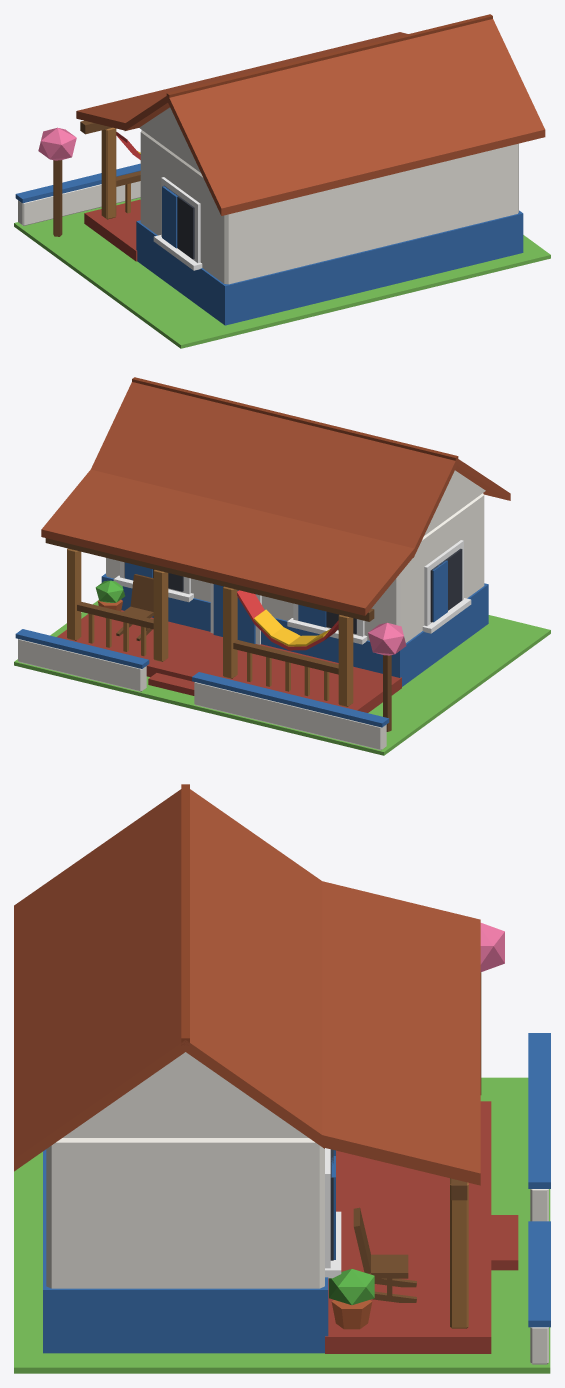
The model's file is casa_alpendre.glb.
3 renders of one model, top to bottom at view 1: azimuth 30°, elevation 25°; view 2: azimuth 150°, elevation 25°; view 3: azimuth 270°, elevation 25°, orthographic. The views are drawn at different scales.
Parts seen in each view (by area): view 1: corpo; view 2: corpo; view 3: corpo.
Part boxes in pixels (x1,y1,x2,y2): corpo: (14,14,550,348); corpo: (14,377,550,755); corpo: (14,784,550,1373).
Size of the model in its own units: 1.28 by 0.68 by 1.
